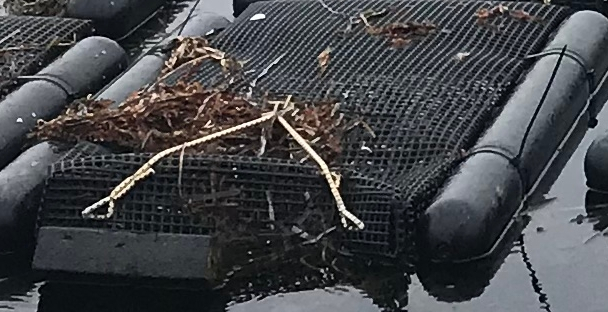bag: (34, 9, 608, 268)
